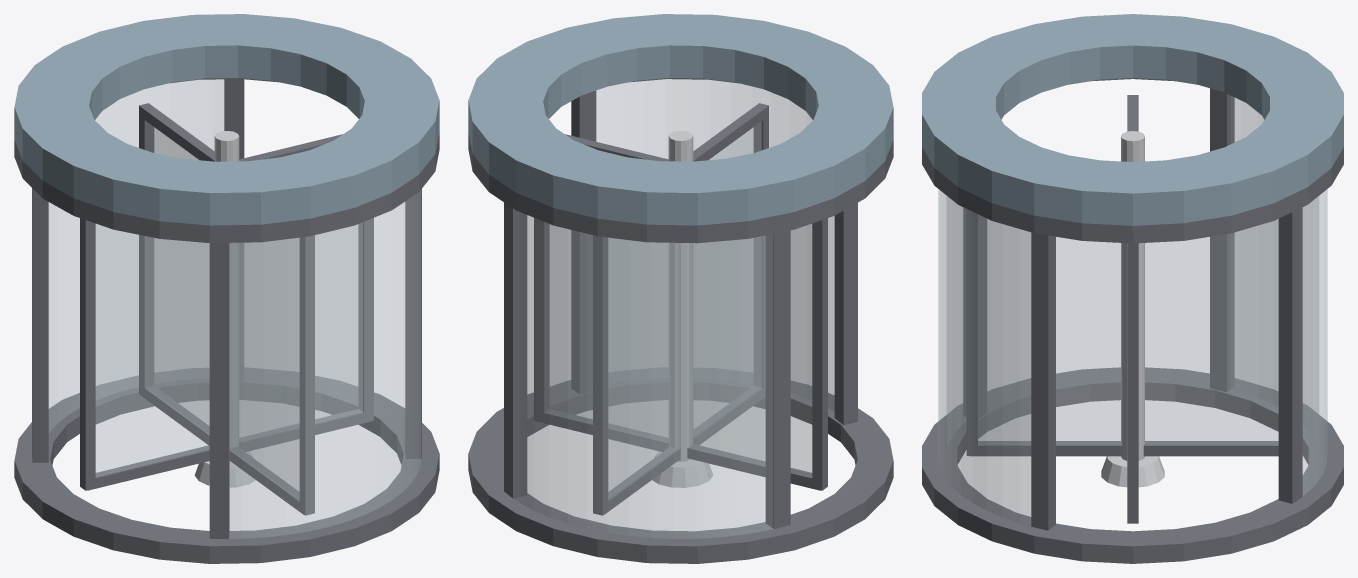
File: animated-mechanisms-kit-revolving-door-5b2f0b8d__24594.glb
3 renders of one model, left to right at view 1: azimuth 30°, elevation 25°; view 2: azimuth 150°, elevation 25°; view 3: azimuth 270°, elevation 25°, orthographic.
Parts seen in each view (by area): view 1: revolving-door, drum/glass, drum/iron, drum/steel; view 2: revolving-door, drum/glass, drum/iron, drum/steel; view 3: revolving-door, drum/glass, drum/iron, drum/steel.
Part boxes in pixels (x1,y1,x2,y2): revolving-door: [14, 14, 439, 563]; drum/glass: [96, 122, 362, 498]; drum/iron: [80, 103, 373, 515]; drum/steel: [214, 131, 239, 447]; revolving-door: [468, 14, 893, 563]; drum/glass: [545, 122, 811, 498]; drum/iron: [534, 103, 827, 515]; drum/steel: [668, 131, 693, 461]; revolving-door: [922, 14, 1343, 563]; drum/glass: [978, 215, 1278, 444]; drum/iron: [966, 95, 1278, 523]; drum/steel: [1121, 131, 1144, 460].
Bounding box in the file's own units: 2.62 × 2.52 × 2.6.
